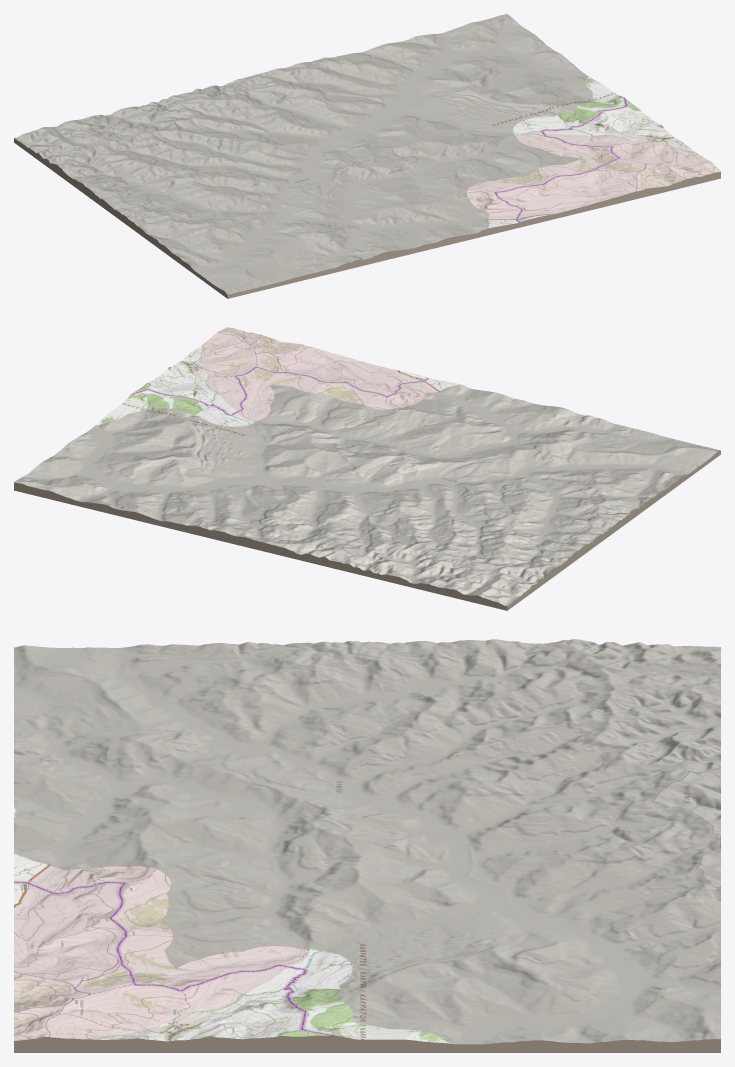
3 views of the same model, one above another, from view 1: azimuth 30°, elevation 25°; view 2: azimuth 150°, elevation 25°; view 3: azimuth 270°, elevation 25° (orthographic). The views are drawn at different scales.
Parts seen in each view (by area): view 1: BV50-B1 Seliștat; view 2: BV50-B1 Seliștat; view 3: BV50-B1 Seliștat.
Part boxes in pixels (x1,y1,x2,y2): BV50-B1 Seliștat: (14,14,720,298); BV50-B1 Seliștat: (14,327,720,610); BV50-B1 Seliștat: (14,639,720,1052).
Size of the model in its own units: 20000 by 411 by 15000.
2 materials, 1 textured.
